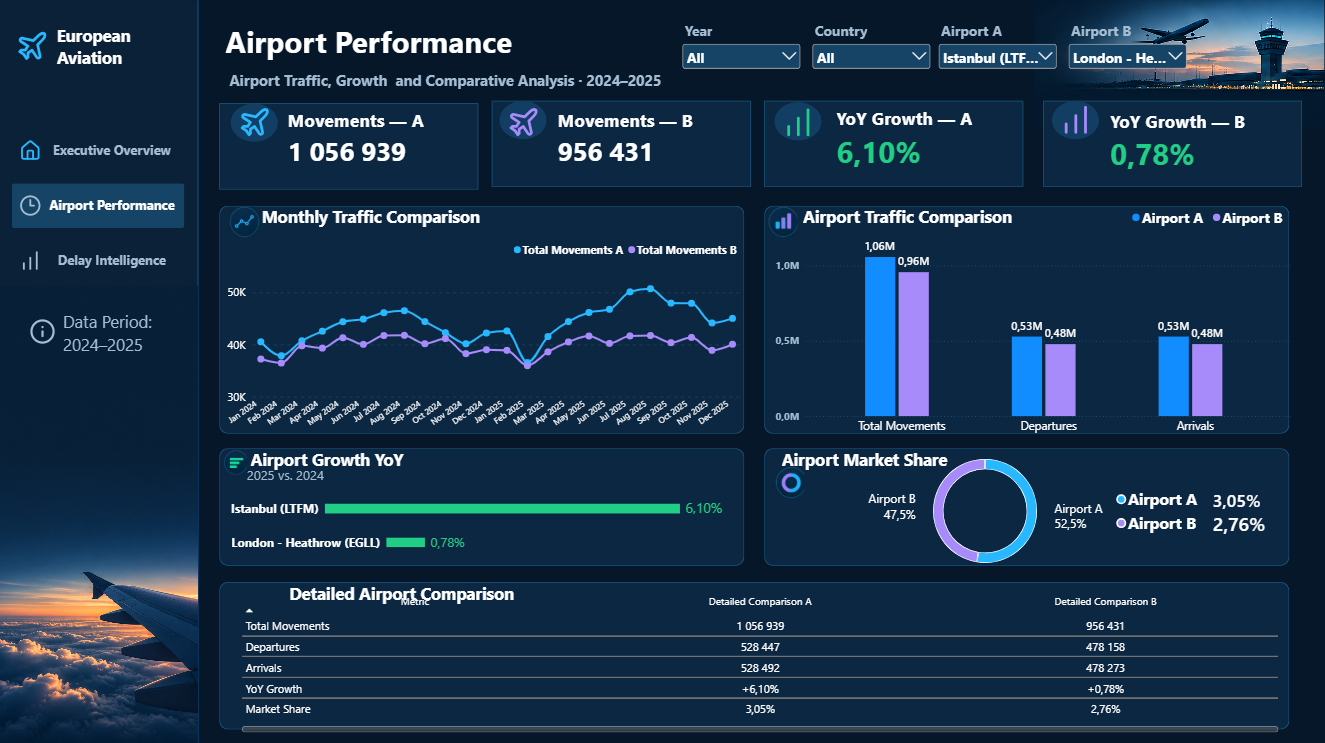

This screenshot's page, from the dashboard's own definition file:
{"tool":"powerbi","page":{"name":"Airport Perfomance","canvas":[1920,1080],"ordinal":1},"visuals":[{"type":"image","box":[1500.2,0,419.8,190],"z":0},{"type":"shape","box":[0,0,290,1080],"z":1000},{"type":"textbox","box":[85,40,195,100],"z":2000},{"type":"image","box":[25,47,48,48],"z":3000},{"type":"actionButton","box":[20,190,250,65],"z":4000},{"type":"actionButton","box":[20,270,250,65],"z":5000},{"type":"actionButton","box":[20,350,250,65],"z":6000},{"type":"image","box":[30,206,32,32],"z":7000},{"type":"image","box":[30,286,32,32],"z":8000},{"type":"image","box":[30,366,32,32],"z":9000},{"type":"textbox","box":[330,35,700,75],"z":10000},{"type":"textbox","box":[335,105,780,45],"z":11000},{"type":"slicer","fields":{"Values":["Airport A Selector.Airport Display"]},"box":[1357.2,35,180,75],"z":12000},{"type":"slicer","fields":{"Values":["Airport Operations.state_name"]},"box":[1174.5,35,180,75],"z":13000},{"type":"slicer","fields":{"Values":["Airport Operations.year"]},"box":[986.3,35,180,75],"z":14000},{"type":"shape","box":[320.3,153.8,375,125],"z":15000},{"type":"cardVisual","fields":{"Data":["Airport A Selector.Total Movements A"]},"box":[403.6,150.2,291.4,110.4],"z":16000},{"type":"shape","box":[1512.9,150.2,375,125],"z":17000},{"type":"shape","box":[1109.3,150.2,375,125],"z":18000},{"type":"shape","box":[714.8,150.2,375,125],"z":19000},{"type":"shape","box":[336.6,153.8,68.8,56.1],"z":20000},{"type":"image","box":[347.5,157.4,48,48],"z":21000},{"type":"cardVisual","fields":{"Data":["Airport B Selector.Total Movements B"]},"box":[794.4,150.2,267.8,110.4],"z":22000},{"type":"shape","box":[725.7,150.2,68.8,56.1],"z":23000},{"type":"image","box":[736.5,157.4,48,48],"z":24000},{"type":"cardVisual","fields":{"Data":["Airport A Selector.Airport A YoY Growth %"]},"box":[1198,150.2,267.8,110.4],"z":25000},{"type":"shape","box":[1123.8,152,68.8,56.1],"z":26000},{"type":"image","box":[1134.7,157.4,48,48],"z":27000},{"type":"shape","box":[1525.5,150.2,68.8,56.1],"z":28000},{"type":"image","box":[1536.4,153.8,48,48],"z":29000},{"type":"shape","box":[320.3,302.2,760,330],"z":30000},{"type":"textbox","box":[381.8,302.2,647.9,47.1],"z":31000},{"type":"lineChart","fields":{"Category":["Airport Operations.Month Year EN"],"Y":["Airport A Selector.Total Movements A","Airport B Selector.Total Movements B"]},"box":[307.6,334.8,783.6,318.5],"z":32000},{"type":"shape","box":[320.3,653.3,760.1,170.1],"z":33000},{"type":"image","box":[0,418,289.5,662.3],"z":34000},{"type":"textbox","box":[95,455,175,75],"z":35000},{"type":"image","box":[45,465,38,38],"z":36000},{"type":"slicer","fields":{"Values":["Airport B Selector.Airport Display"]},"box":[1545.5,35,180,75],"z":37000},{"type":"cardVisual","fields":{"Data":["Airport B Selector.Airport B YoY Growth %"]},"box":[1594.3,153.8,267.8,110.4],"z":38000},{"type":"shape","box":[1109.3,302.2,760,330],"z":39000},{"type":"clusteredColumnChart","fields":{"Category":["Comparison Metrics.Metric"],"Y":["Airport A Selector.Airport A Comparison Value","Airport A Selector.Airport B Comparison Value"]},"box":[1109.3,285.9,778.2,367.4],"z":40000},{"type":"textbox","box":[1165.4,302.2,562.8,32.6],"z":41000},{"type":"shape","box":[1109.3,653.3,760.1,170.1],"z":42000},{"type":"shape","box":[320.3,846.9,1549.1,213.5],"z":43000},{"type":"textbox","box":[365.6,653.3,314.9,50.7],"z":44000},{"type":"textbox","box":[360.1,678.6,626.1,144.8],"z":45000},{"type":"clusteredBarChart","fields":{"Category":["Airport A Selector.Airport Display"],"Y":["Airport A Selector.Airport A YoY Growth %"]},"box":[320.3,666,760.1,144.8],"z":46000},{"type":"clusteredBarChart","fields":{"Category":["Airport B Selector.Airport Display"],"Y":["Airport B Selector.Airport B YoY Growth %"]},"box":[320.3,716.6,760.1,141.2],"z":47000},{"type":"donutChart","fields":{"Category":["Market Share Airports.Airport"],"Y":["Market Share Airports.Market Share Movements"]},"box":[1225.1,631.6,535.7,226.2],"z":48000},{"type":"cardVisual","fields":{"Data":["Market Share Airports.Airport A Market Share %"]},"box":[1742.7,705.8,120,45],"z":49000},{"type":"cardVisual","fields":{"Data":["Market Share Airports.Airport B Market Share %"]},"box":[1742.7,738.3,120,45],"z":50000},{"type":"textbox","box":[1134.7,653.3,734.7,50.7],"z":51000},{"type":"textbox","box":[421.7,846.9,352.9,41.6],"z":52000},{"type":"tableEx","fields":{"Values":["Detailed Comparison Metrics.Metric","Detailed Comparison Metrics.Detailed Comparison A","Detailed Comparison Metrics.Detailed Comparison B"]},"box":[336.6,846.9,1532.8,233.4],"z":53000},{"type":"image","box":[329.4,302.2,52.5,45.2],"z":54000},{"type":"image","box":[1109.3,302.2,50.7,45.2],"z":55000},{"type":"image","box":[1112.9,678.6,61.5,47.1],"z":56000},{"type":"image","box":[323.9,653.3,36.2,39.8],"z":57000}]}

Visuals, with their boxes in screenshot pixels (x1, y1, x2, y2), scaled from the page's 1920x1080 canvas onto the 1325x743 screenshot:
image: box=[1035, 0, 1324, 131]
shape: box=[0, 0, 200, 742]
textbox: box=[59, 28, 193, 96]
image: box=[17, 32, 50, 65]
actionButton: box=[14, 131, 186, 175]
actionButton: box=[14, 186, 186, 230]
actionButton: box=[14, 241, 186, 286]
image: box=[21, 142, 43, 164]
image: box=[21, 197, 43, 219]
image: box=[21, 252, 43, 274]
textbox: box=[228, 24, 711, 76]
textbox: box=[231, 72, 769, 103]
slicer - Airport A Selector.Airport Display: box=[937, 24, 1061, 76]
slicer - Airport Operations.state_name: box=[811, 24, 935, 76]
slicer - Airport Operations.year: box=[681, 24, 805, 76]
shape: box=[221, 106, 480, 192]
cardVisual - Airport A Selector.Total Movements A: box=[279, 103, 480, 179]
shape: box=[1044, 103, 1303, 189]
shape: box=[766, 103, 1024, 189]
shape: box=[493, 103, 752, 189]
shape: box=[232, 106, 280, 144]
image: box=[240, 108, 273, 141]
cardVisual - Airport B Selector.Total Movements B: box=[548, 103, 733, 179]
shape: box=[501, 103, 548, 142]
image: box=[508, 108, 541, 141]
cardVisual - Airport A Selector.Airport A YoY Growth %: box=[827, 103, 1012, 179]
shape: box=[776, 105, 823, 143]
image: box=[783, 108, 816, 141]
shape: box=[1053, 103, 1100, 142]
image: box=[1060, 106, 1093, 139]
shape: box=[221, 208, 746, 435]
textbox: box=[263, 208, 711, 240]
lineChart - Airport Operations.Month Year EN x Airport A Selector.Total Movements A: box=[212, 230, 753, 449]
shape: box=[221, 449, 746, 566]
image: box=[0, 288, 200, 742]
textbox: box=[66, 313, 186, 365]
image: box=[31, 320, 57, 346]
slicer - Airport B Selector.Airport Display: box=[1067, 24, 1191, 76]
cardVisual - Airport B Selector.Airport B YoY Growth %: box=[1100, 106, 1285, 182]
shape: box=[766, 208, 1290, 435]
clusteredColumnChart - Comparison Metrics.Metric x Airport A Selector.Airport A Comparison Value: box=[766, 197, 1303, 449]
textbox: box=[804, 208, 1193, 230]
shape: box=[766, 449, 1290, 566]
shape: box=[221, 583, 1290, 730]
textbox: box=[252, 449, 470, 484]
textbox: box=[249, 467, 681, 566]
clusteredBarChart - Airport A Selector.Airport Display x Airport A Selector.Airport A YoY Growth %: box=[221, 458, 746, 558]
clusteredBarChart - Airport B Selector.Airport Display x Airport B Selector.Airport B YoY Growth %: box=[221, 493, 746, 590]
donutChart - Market Share Airports.Airport x Market Share Airports.Market Share Movements: box=[845, 435, 1215, 590]
cardVisual - Market Share Airports.Airport A Market Share %: box=[1203, 486, 1285, 517]
cardVisual - Market Share Airports.Airport B Market Share %: box=[1203, 508, 1285, 539]
textbox: box=[783, 449, 1290, 484]
textbox: box=[291, 583, 535, 611]
tableEx - Detailed Comparison Metrics.Metric x Detailed Comparison Metrics.Detailed Comparison A: box=[232, 583, 1290, 742]
image: box=[227, 208, 264, 239]
image: box=[766, 208, 801, 239]
image: box=[768, 467, 810, 499]
image: box=[224, 449, 249, 477]
